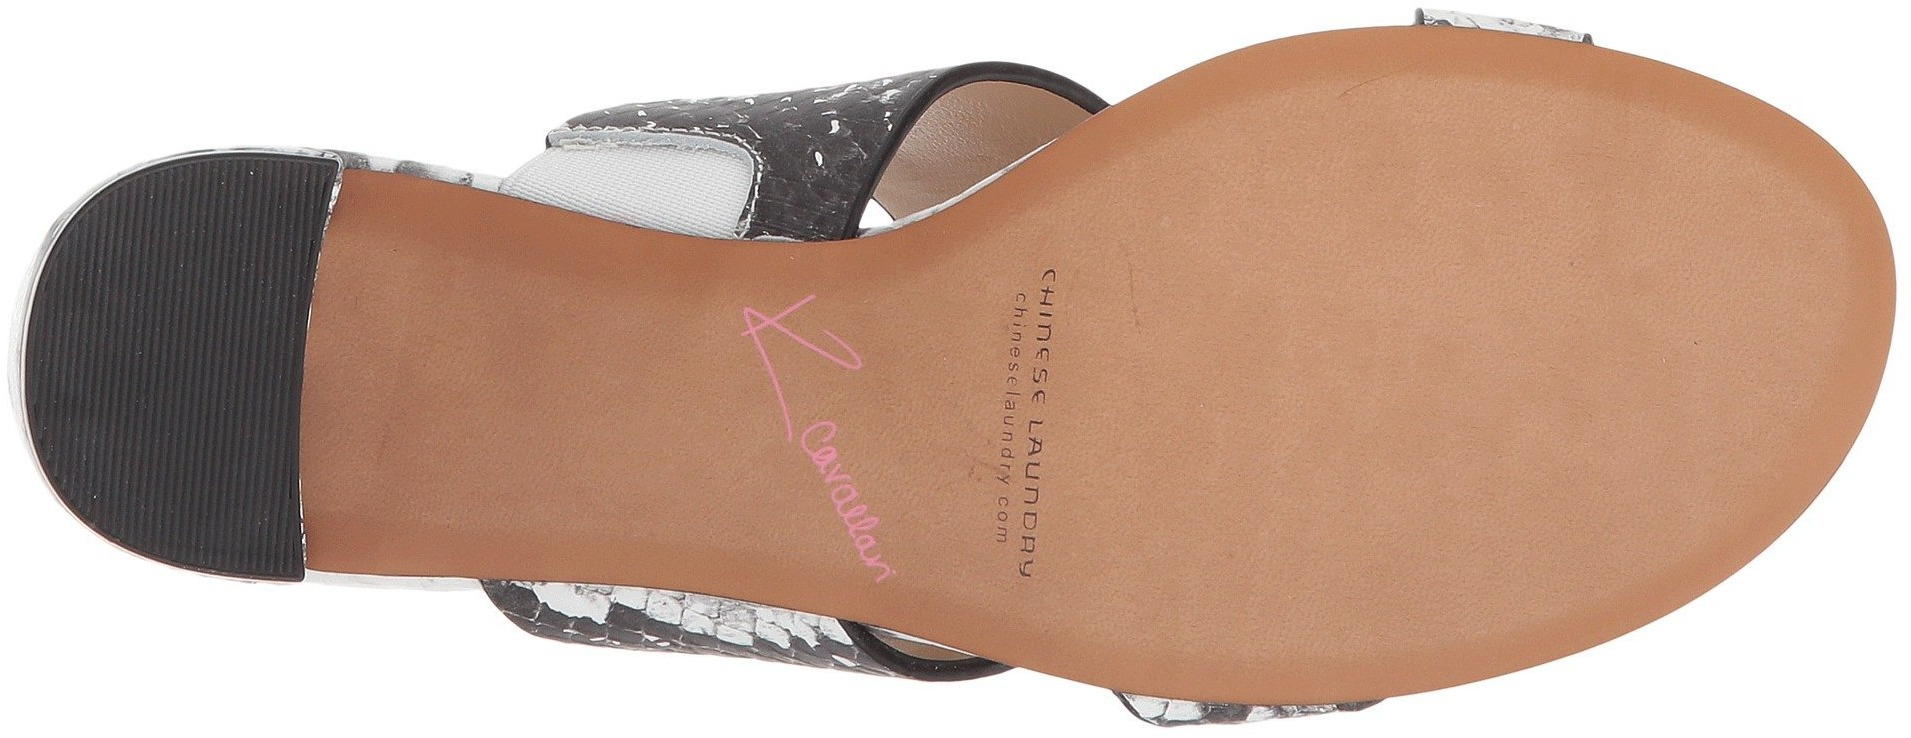line: (37, 259, 288, 497)
other: (1449, 93, 1785, 429), (1137, 130, 1430, 409), (1148, 415, 1443, 673), (1456, 438, 1656, 624)
text: (988, 255, 1118, 365), (982, 381, 1094, 481), (981, 501, 1076, 587)
